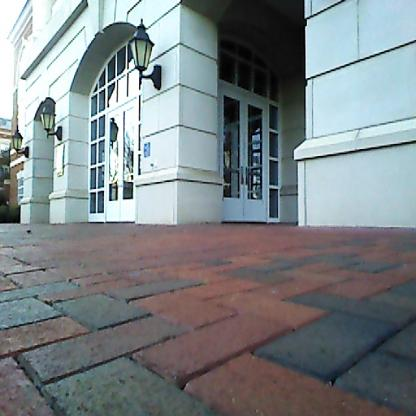Sidewalk: (0, 224, 416, 416)
